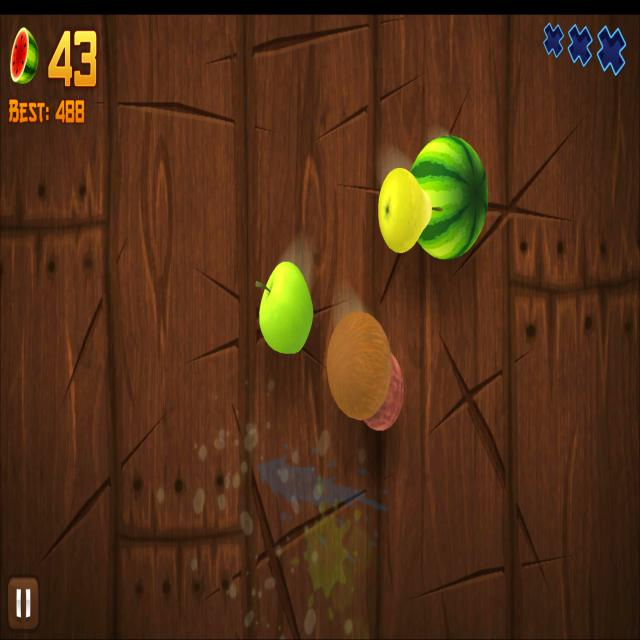fruit: (408, 133, 488, 263), (325, 310, 393, 424), (259, 260, 314, 356), (377, 166, 431, 255), (364, 352, 404, 431)
